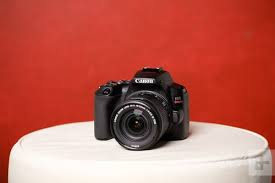camera: (94, 68, 188, 147)
